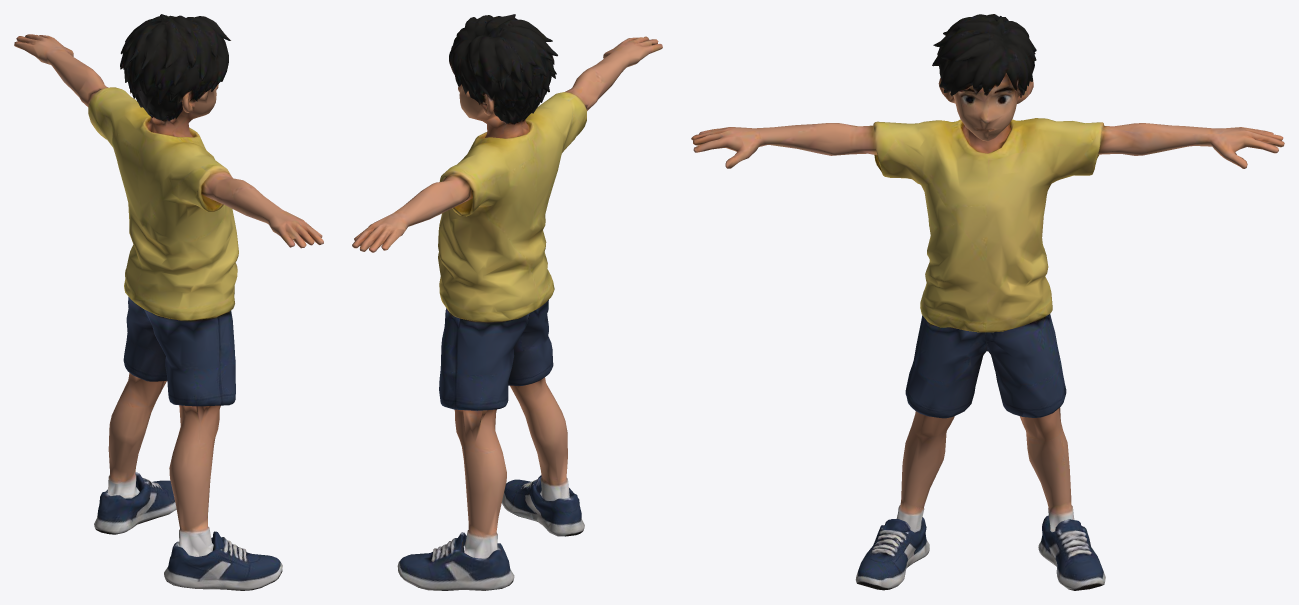
Rendered from kid.glb.
The picture shows the model from 3 angles, left to right: view 1: azimuth 30°, elevation 25°; view 2: azimuth 150°, elevation 25°; view 3: azimuth 270°, elevation 25°; orthographic projection. The views are drawn at different scales.
Visible parts, largest first — view 1: tripo_node_d624b86e-fcb6-4b15-839b-ab81e1e71243; view 2: tripo_node_d624b86e-fcb6-4b15-839b-ab81e1e71243; view 3: tripo_node_d624b86e-fcb6-4b15-839b-ab81e1e71243.
Part boxes in pixels (x1,y1,x2,y2): tripo_node_d624b86e-fcb6-4b15-839b-ab81e1e71243: (14,14,323,590); tripo_node_d624b86e-fcb6-4b15-839b-ab81e1e71243: (352,14,662,590); tripo_node_d624b86e-fcb6-4b15-839b-ab81e1e71243: (691,14,1284,590).
Size of the model in its own units: 0.2031 by 0.9987 by 0.973.
Materials: 1 (1 with a texture image).
